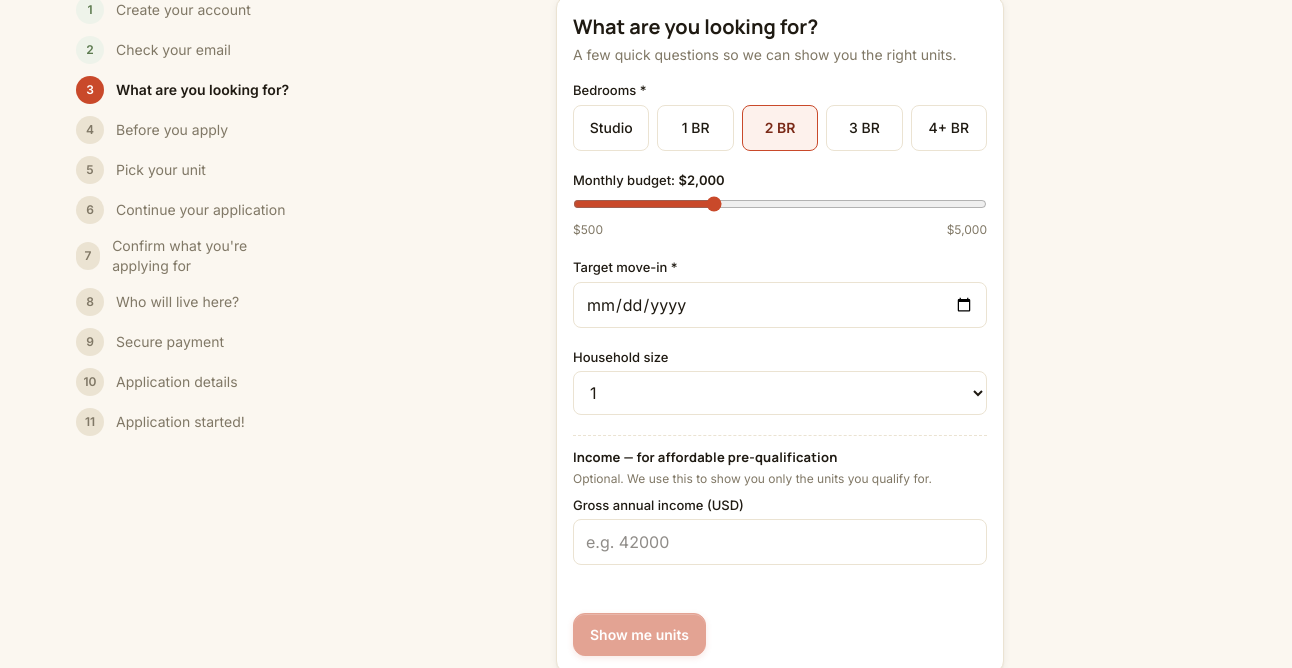
Apply — issue #9 query param merge › preserves utm_* and inbound handoff params across setStep transitions
The width and height of the screenshot is (1292, 668).
Expected: the heading "What are you looking for?" is shown, left=573, top=13, right=818, bottom=40
Click the button "2 BR".
click(780, 128)  # box left=742, top=104, right=818, bottom=150
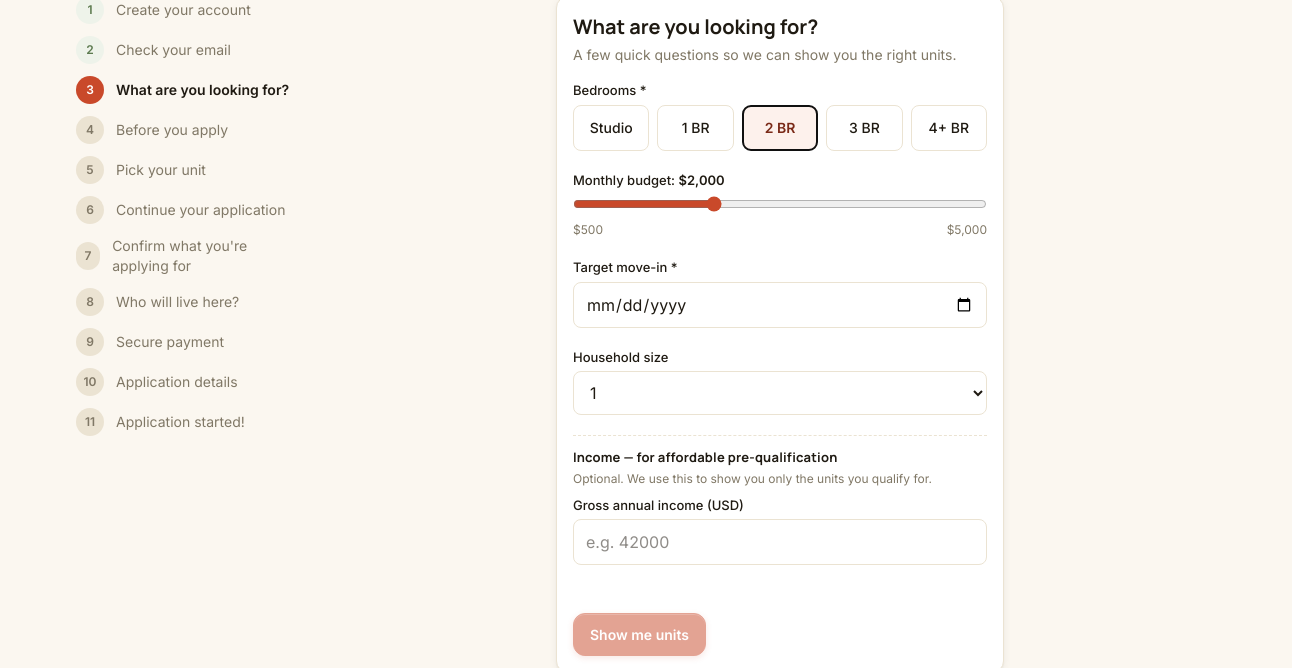
Type "2026-09-01" into the date field labelled "Target move-in *".
click(780, 304); type("2026-09-01")  # box left=573, top=282, right=987, bottom=328
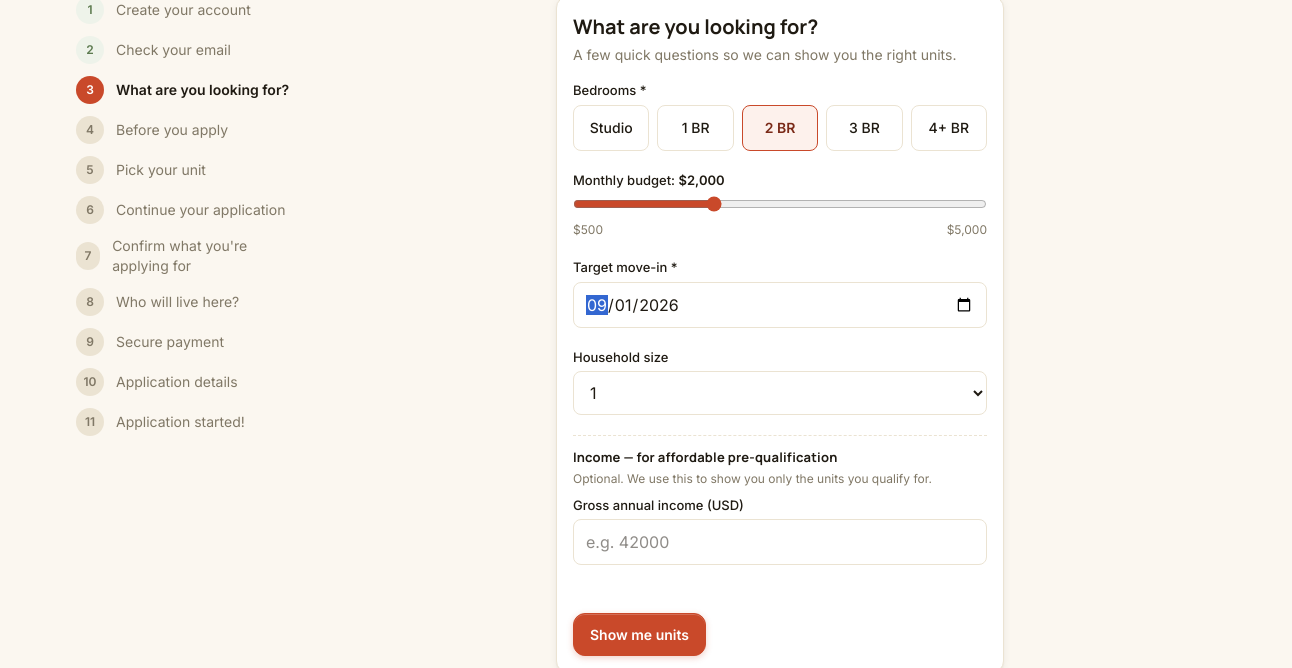
Click the button "Show me units".
click(640, 634)  # box left=573, top=613, right=706, bottom=656
(page scrolled)
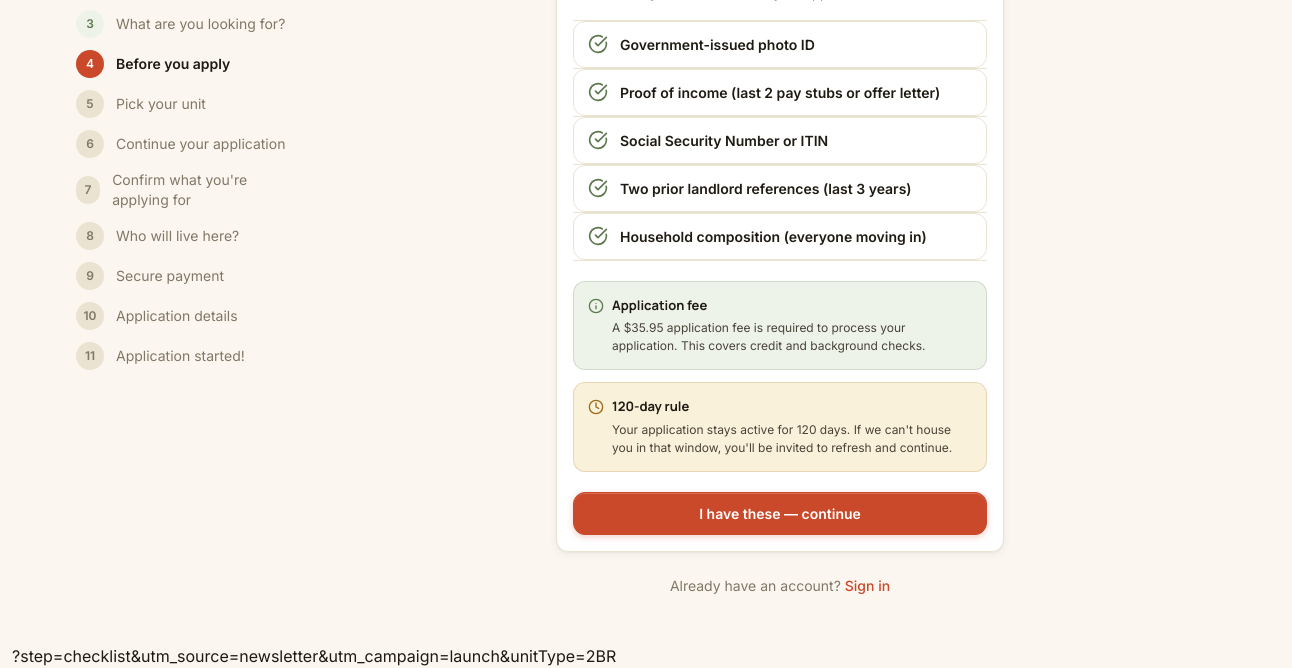
Expected: the text with test id "loc-search" shows "utm_source=newsletter", left=12, top=646, right=616, bottom=666
Result: the text with test id "loc-search" shows "step=checklist" at left=12, top=646, right=616, bottom=666
